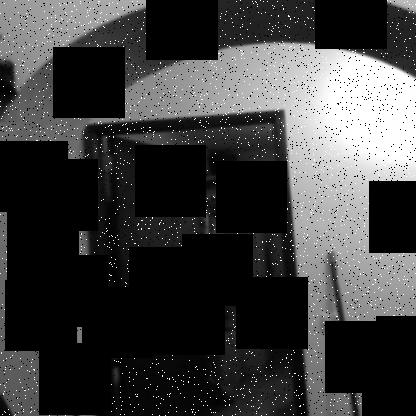Porte: (79, 108, 308, 415)
